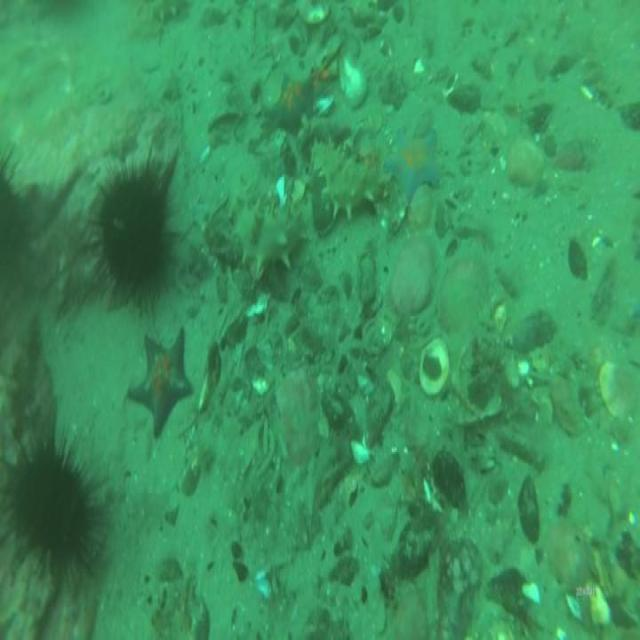echinus: (0, 415, 109, 595), (84, 144, 185, 319), (0, 143, 31, 314)
holothurian: (226, 171, 309, 283), (309, 133, 391, 218)
starfish: (125, 326, 194, 444), (388, 124, 448, 202), (263, 68, 317, 142)
